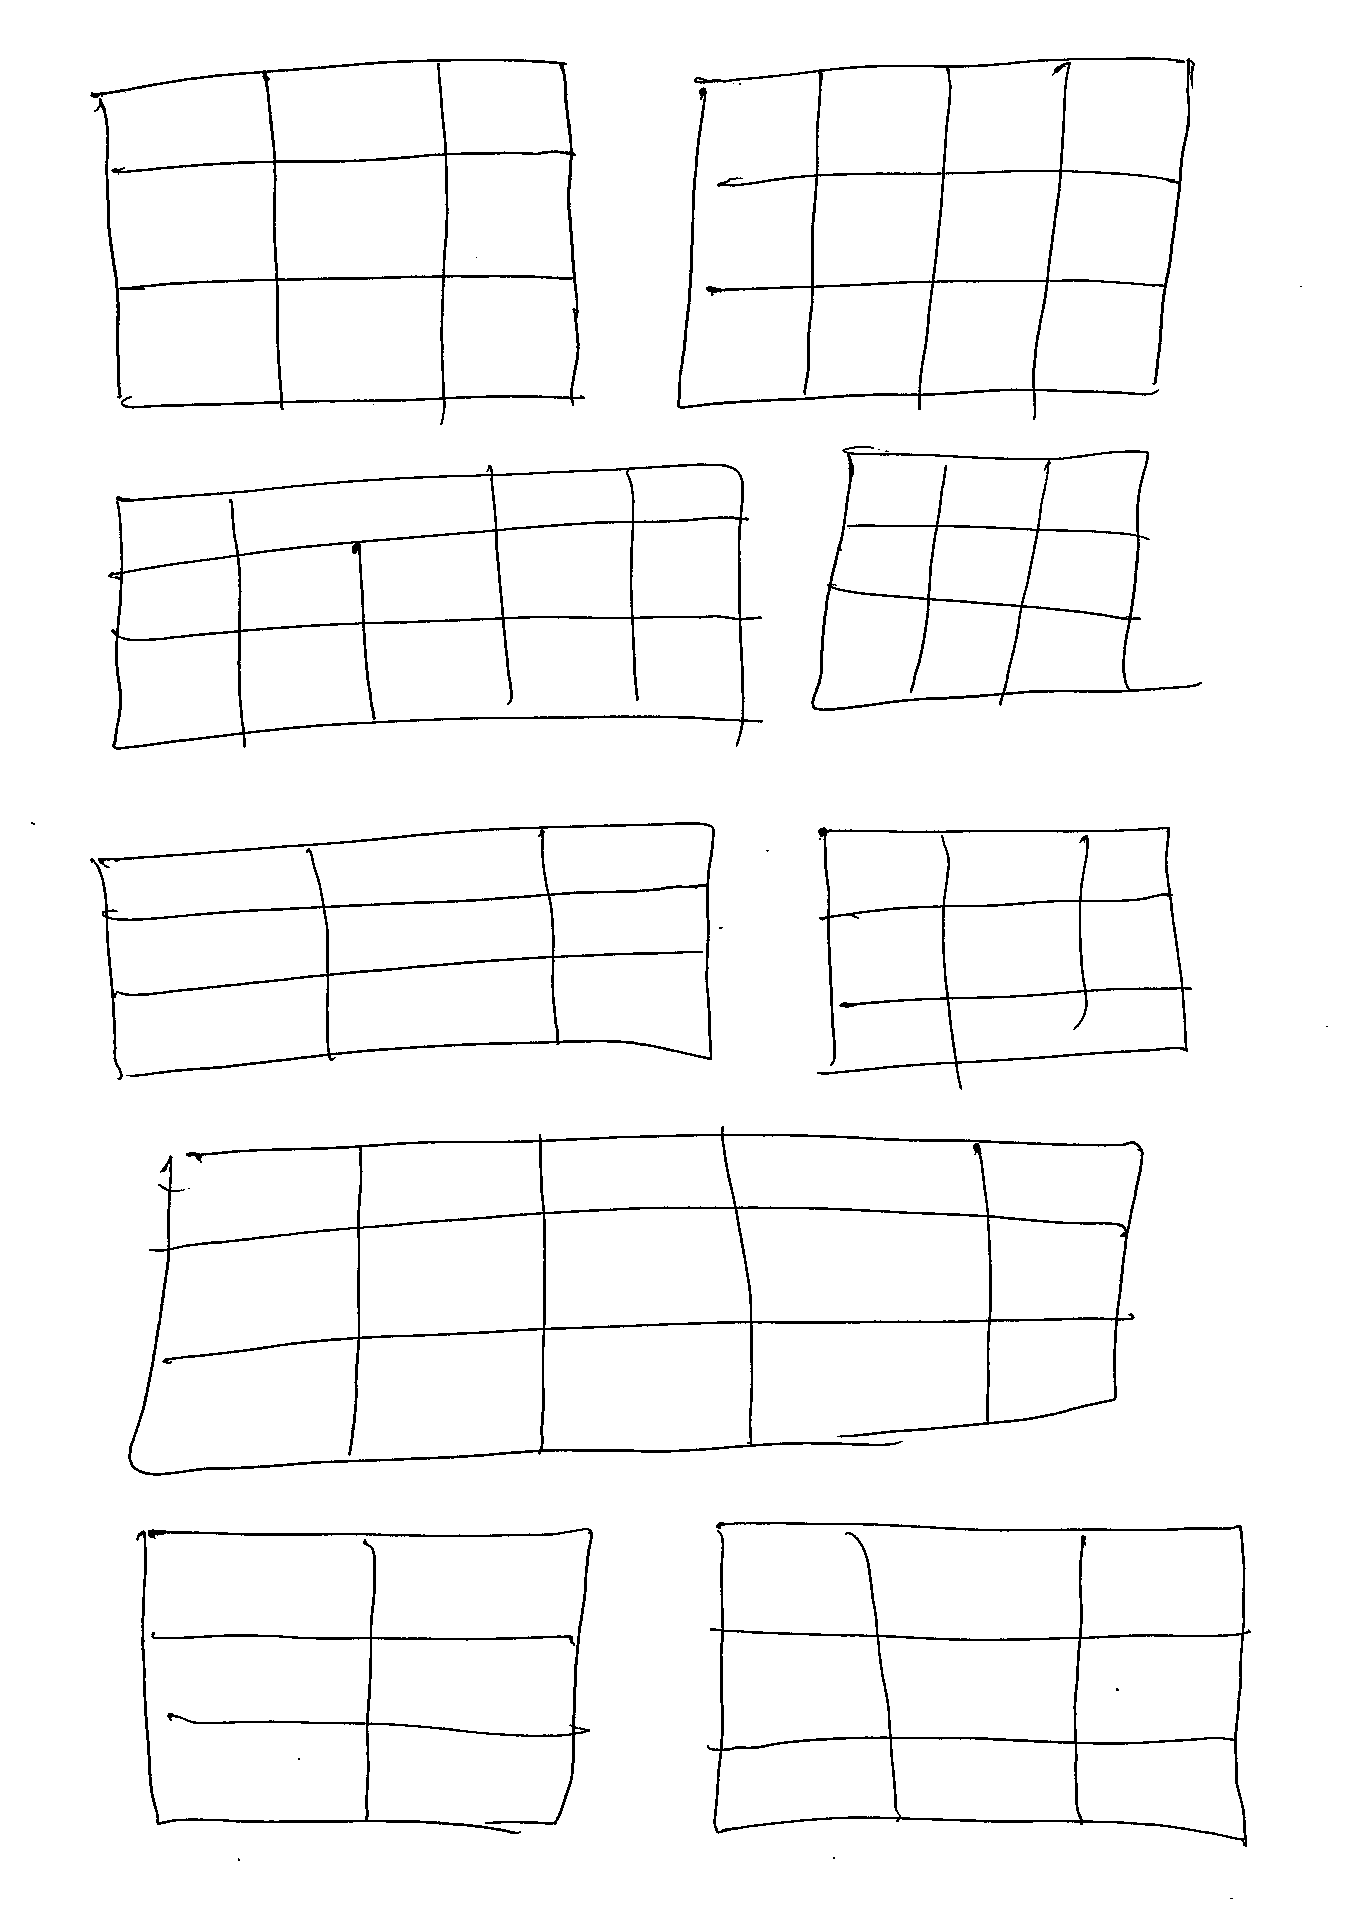Table: (121, 1133, 1153, 1479), (103, 458, 752, 759), (668, 50, 1195, 417), (707, 1517, 1260, 1847), (86, 53, 580, 415), (92, 815, 724, 1085), (133, 1523, 603, 1832), (803, 441, 1165, 717), (818, 821, 1192, 1076)
